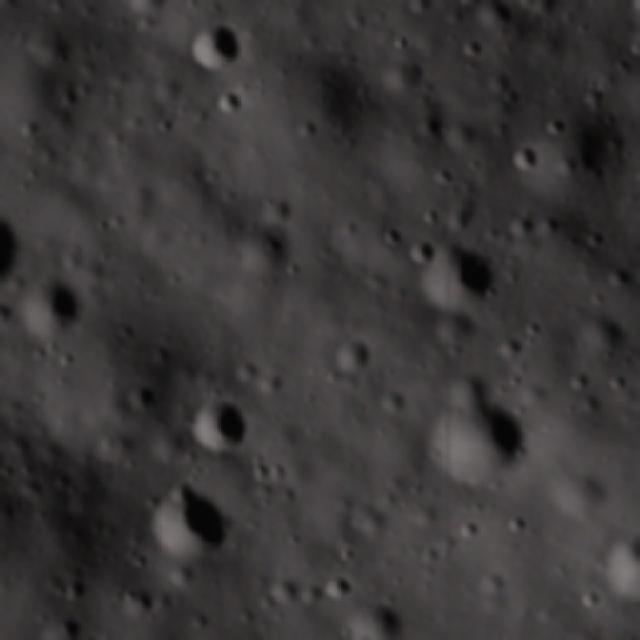crater: (426, 383, 539, 480), (147, 472, 219, 566), (428, 239, 503, 310), (22, 281, 88, 337), (185, 21, 241, 68), (188, 399, 241, 447), (0, 196, 15, 295), (334, 338, 374, 374), (125, 386, 158, 416), (512, 143, 539, 175), (320, 568, 345, 600), (210, 90, 241, 115), (574, 591, 606, 615), (540, 117, 572, 138), (119, 0, 168, 12), (408, 237, 428, 266), (460, 516, 477, 546), (505, 518, 532, 534), (150, 119, 178, 132), (343, 629, 374, 640), (453, 0, 502, 3), (272, 0, 303, 2)
